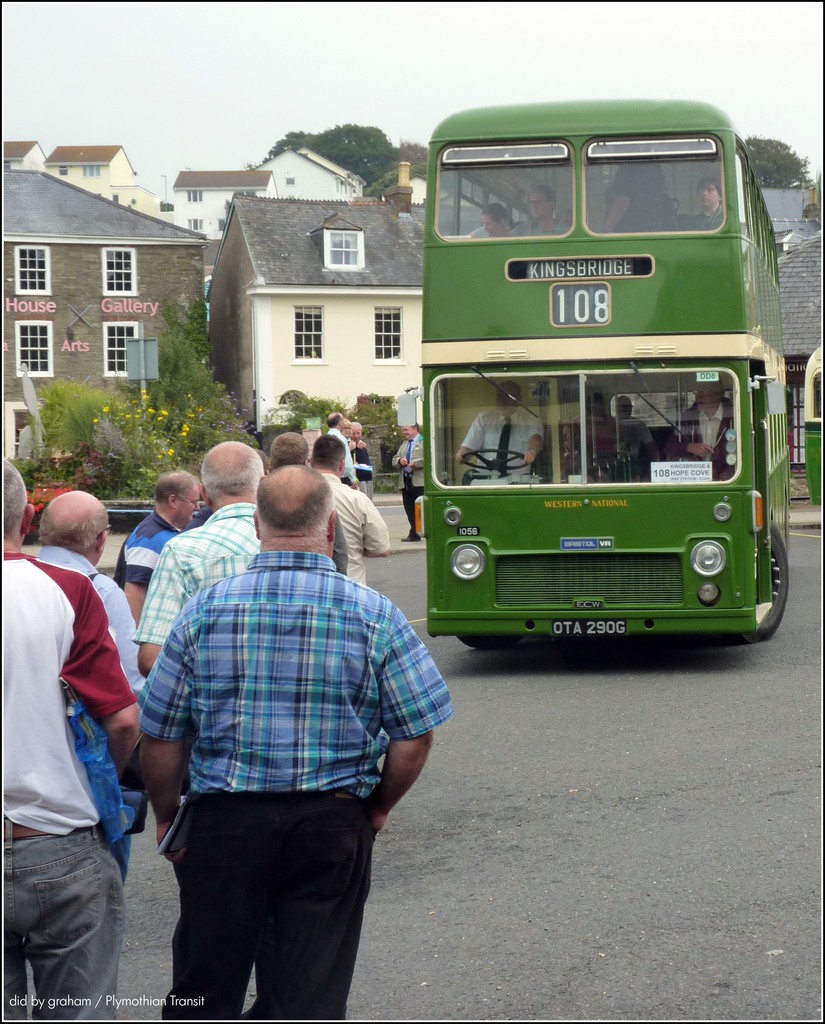Bus: (424, 100, 792, 644), (801, 339, 824, 509)
